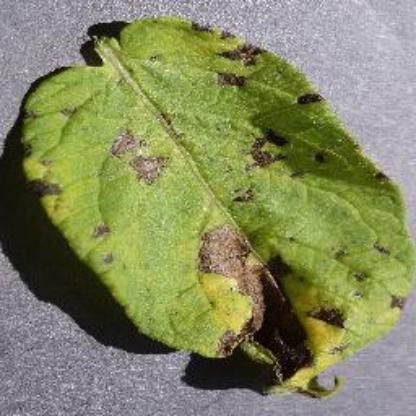Early-Blight: (17, 13, 416, 399)
